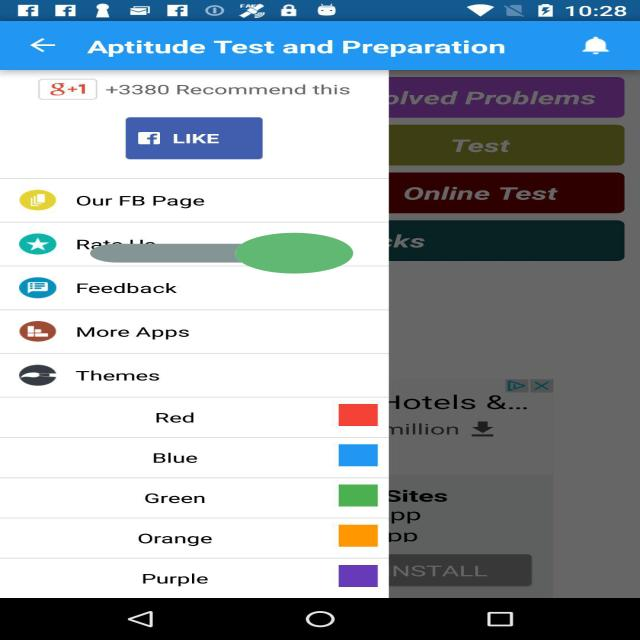social proof: (90, 208, 353, 298)
